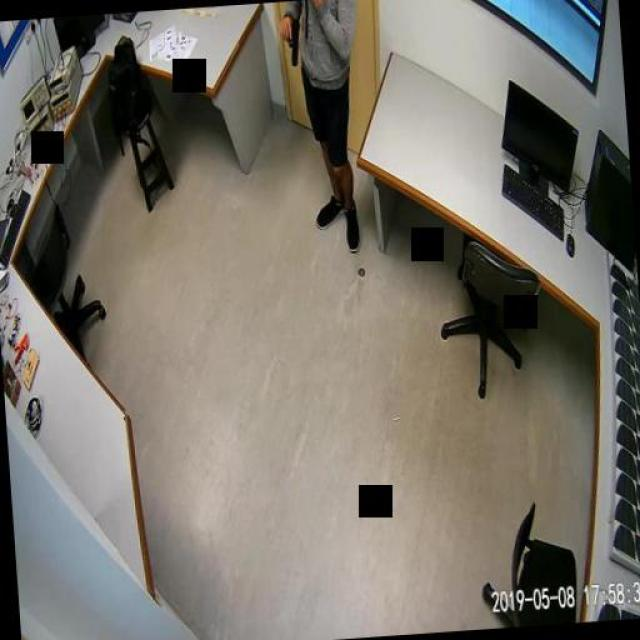gun: (279, 16, 301, 65)
